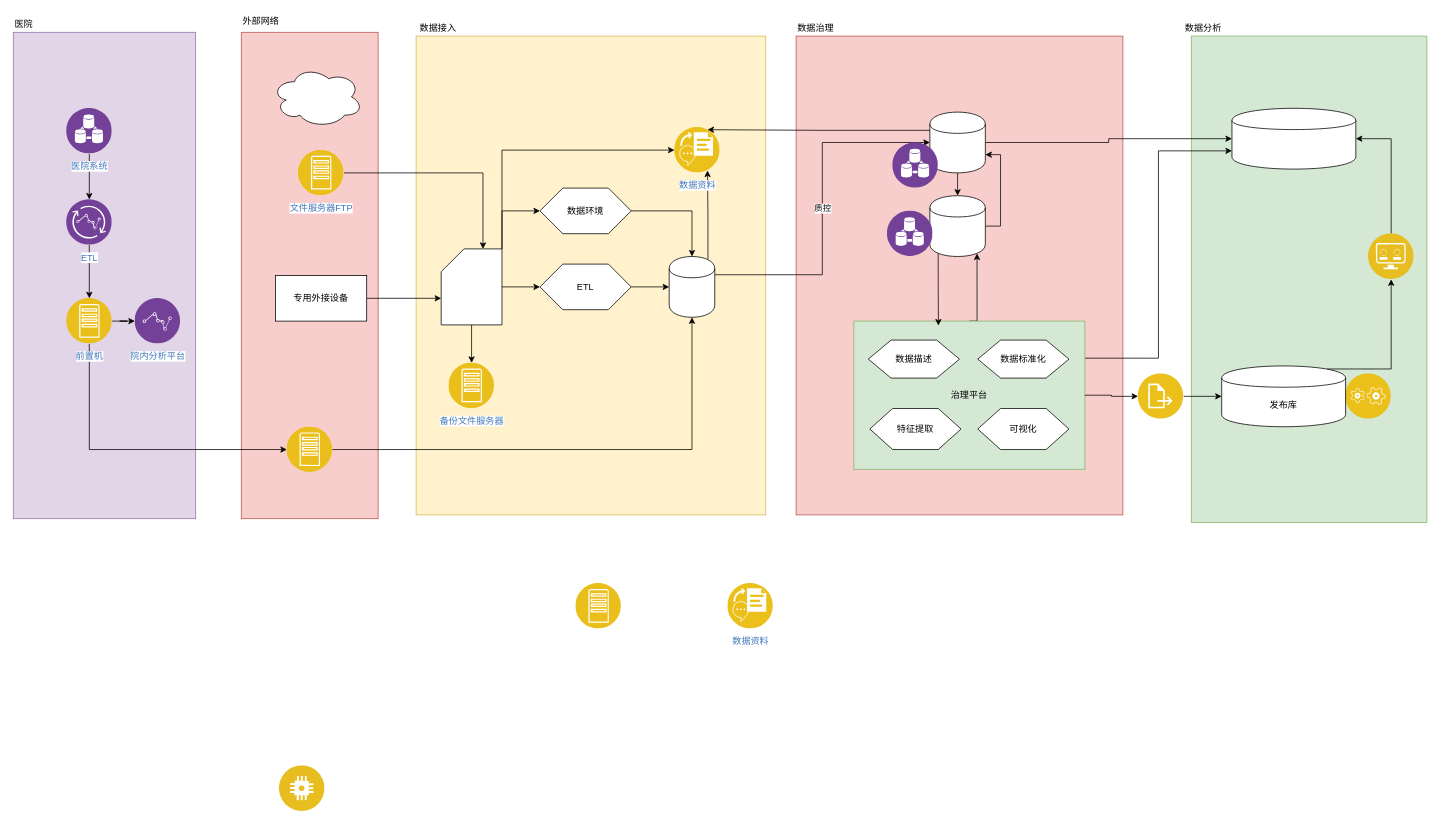
Some shapes in this 1440 by 824 pixel diagram are drawn without their labels. Each missing label, with the centre of its shape:
"分析平台" goes at point (1391, 256).
"原始库" goes at point (691, 286).
"原始数据" goes at point (471, 286).
"堡垒机63" goes at point (309, 449).
"工作数据库" goes at point (957, 225).
"标准结构库" goes at point (957, 142).
"版本控制" goes at point (1368, 396).
"知识库" goes at point (1293, 138).
"过程管理" goes at point (598, 606).
